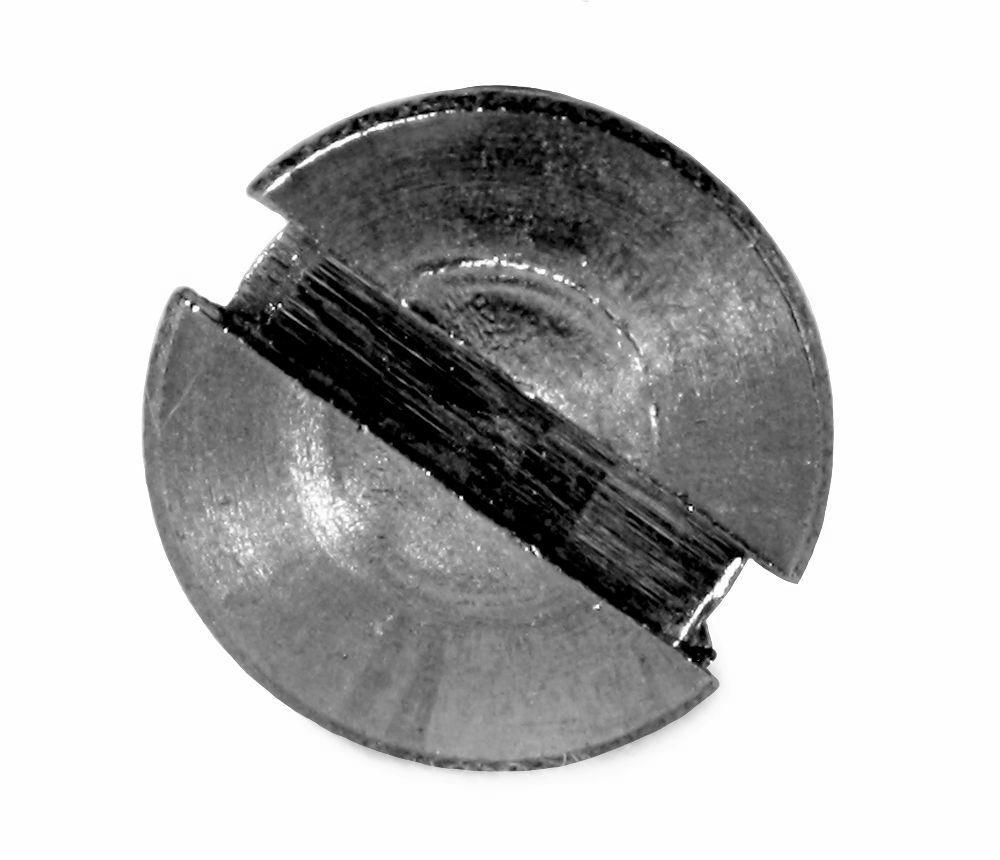slotted: (144, 84, 824, 773)
